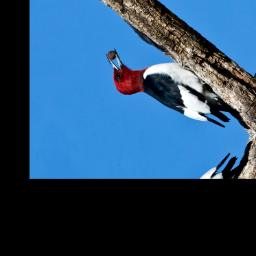Woodpecker: (102, 24, 235, 153)
